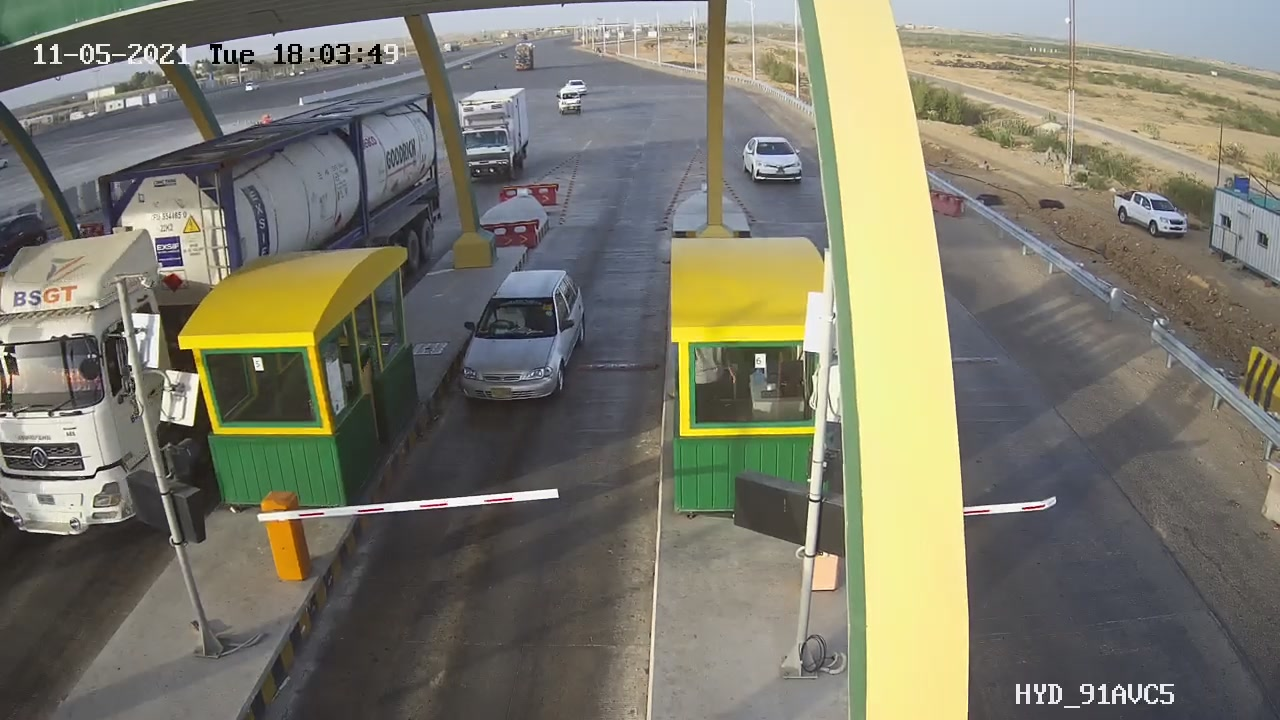F1: (425, 246, 615, 422)
